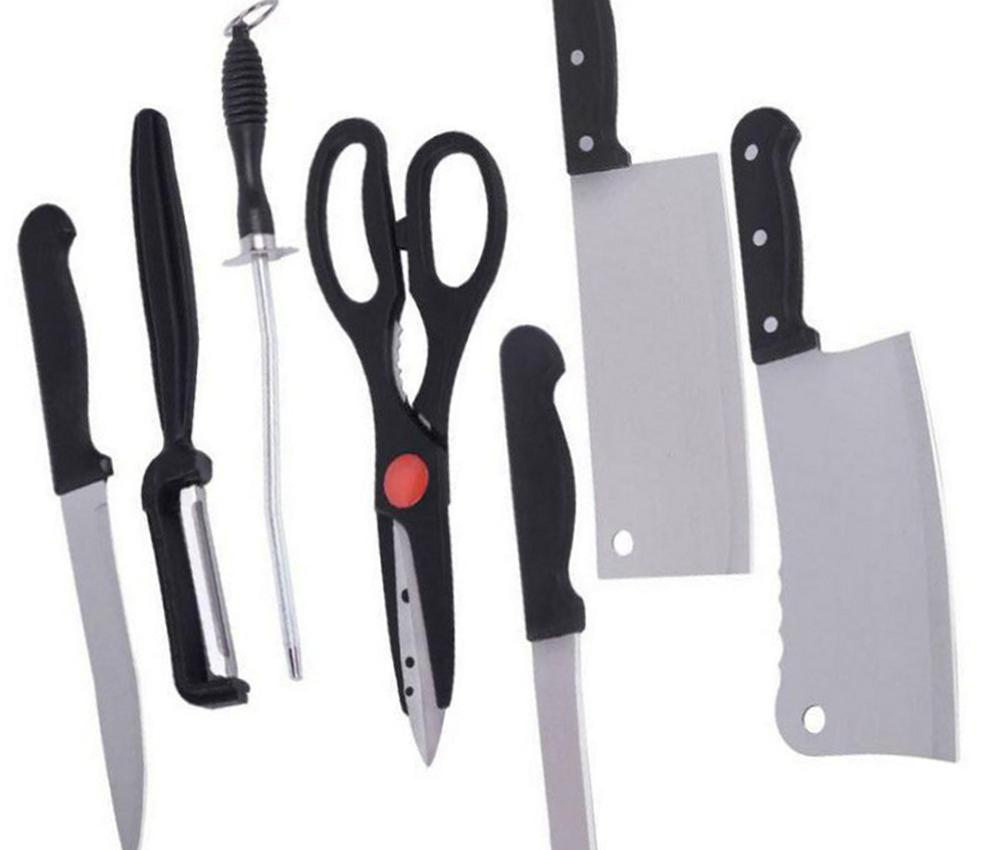knife: (20, 201, 147, 850)
